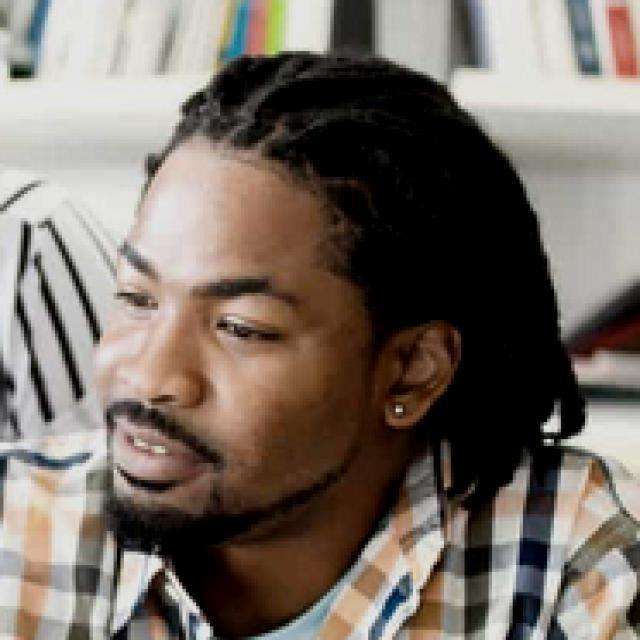Looking forward: (95, 140, 377, 552)
